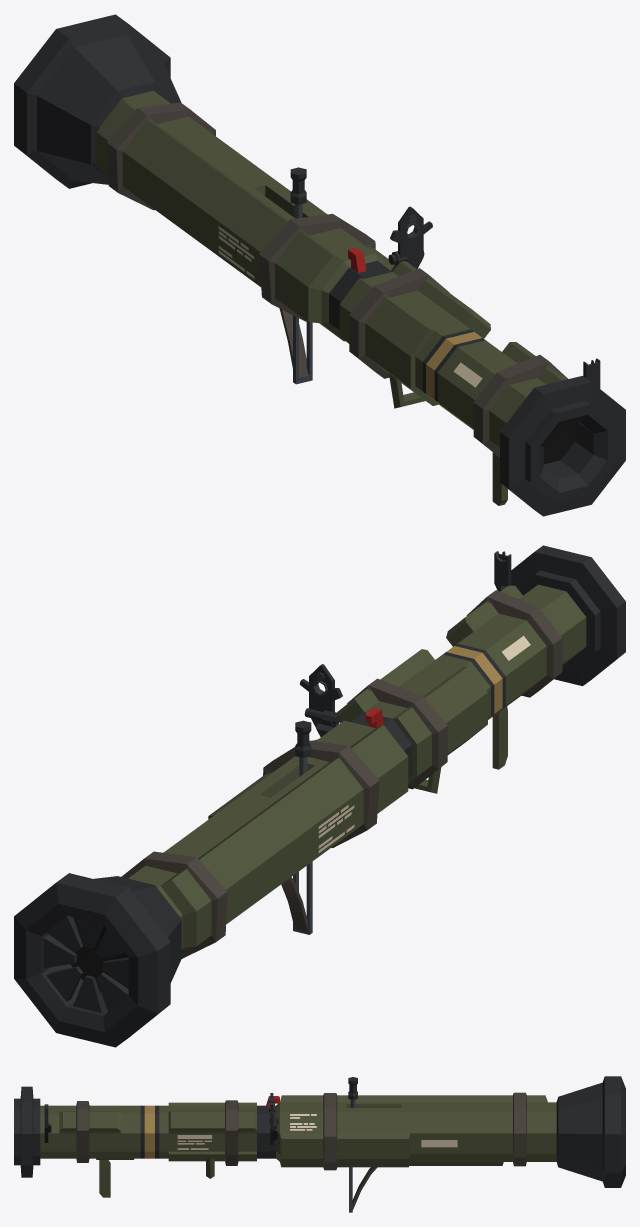
Rendered from item_14.glb.
The picture shows the model from 3 angles, top to bottom: view 1: azimuth 30°, elevation 25°; view 2: azimuth 150°, elevation 25°; view 3: azimuth 270°, elevation 25°; orthographic projection. The views are drawn at different scales.
Parts seen in each view (by area): view 1: RocketLauncher_01, RocketLauncher_01.001, RocketLauncher_01.003, RocketLauncher_01.005, RocketLauncher_01.007, RocketLauncher_01.006, RocketLauncher_Handle_02, RocketLauncher_01.013, RocketLauncher_01.004, RocketLauncher_01.010, RocketLauncher_01.011, RocketLauncher_01.015; view 2: RocketLauncher_01, RocketLauncher_01.001, RocketLauncher_01.003, RocketLauncher_01.005, RocketLauncher_01.007, RocketLauncher_01.006, RocketLauncher_01.013, RocketLauncher_Handle_02, RocketLauncher_01.002, RocketLauncher_Handle_01, RocketLauncher_01.010, RocketLauncher_01.011 (+2 smaller); view 3: RocketLauncher_01, RocketLauncher_01.001, RocketLauncher_01.003, RocketLauncher_01.005, RocketLauncher_01.007, RocketLauncher_01.006, RocketLauncher_01.004, RocketLauncher_01.010, RocketLauncher_01.011, RocketLauncher_Handle_01, RocketLauncher_Handle_02, RocketLauncher_01.016 (+3 smaller).
Boxes of the visible parts, x1,y1,x2,y2 form: RocketLauncher_01: [96, 91, 566, 448]; RocketLauncher_01.001: [14, 14, 181, 188]; RocketLauncher_01.003: [500, 375, 625, 516]; RocketLauncher_01.005: [259, 213, 449, 378]; RocketLauncher_01.007: [106, 102, 215, 210]; RocketLauncher_01.006: [473, 355, 568, 457]; RocketLauncher_Handle_02: [279, 308, 312, 384]; RocketLauncher_01.013: [390, 206, 432, 271]; RocketLauncher_01.004: [329, 261, 391, 330]; RocketLauncher_01.010: [426, 332, 482, 413]; RocketLauncher_01.011: [422, 329, 485, 416]; RocketLauncher_01.015: [290, 167, 306, 218]; RocketLauncher_01: [128, 584, 586, 949]; RocketLauncher_01.001: [14, 873, 181, 1047]; RocketLauncher_01.003: [511, 545, 625, 686]; RocketLauncher_01.005: [263, 678, 447, 847]; RocketLauncher_01.007: [121, 851, 227, 958]; RocketLauncher_01.006: [466, 590, 562, 697]; RocketLauncher_01.013: [300, 664, 342, 736]; RocketLauncher_Handle_02: [281, 861, 312, 934]; RocketLauncher_01.002: [48, 917, 128, 1009]; RocketLauncher_Handle_01: [492, 706, 507, 769]; RocketLauncher_01.010: [446, 646, 502, 719]; RocketLauncher_01.011: [443, 643, 505, 719]; RocketLauncher_01: [40, 1095, 556, 1167]; RocketLauncher_01.001: [556, 1076, 625, 1187]; RocketLauncher_01.003: [14, 1086, 40, 1177]; RocketLauncher_01.005: [225, 1093, 337, 1170]; RocketLauncher_01.007: [513, 1092, 526, 1166]; RocketLauncher_01.006: [76, 1101, 89, 1162]; RocketLauncher_01.004: [257, 1105, 275, 1158]; RocketLauncher_01.010: [144, 1105, 154, 1158]; RocketLauncher_01.011: [140, 1105, 159, 1158]; RocketLauncher_Handle_01: [99, 1160, 110, 1197]; RocketLauncher_Handle_02: [349, 1167, 377, 1212]; RocketLauncher_01.016: [421, 1140, 457, 1147].
Bounding box in the file's own units: 0.2425 × 0.3376 × 1.44.
1 material, 1 textured.
